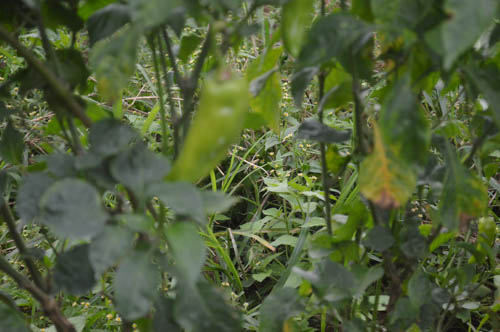ChiliPepper: (167, 79, 255, 204)
